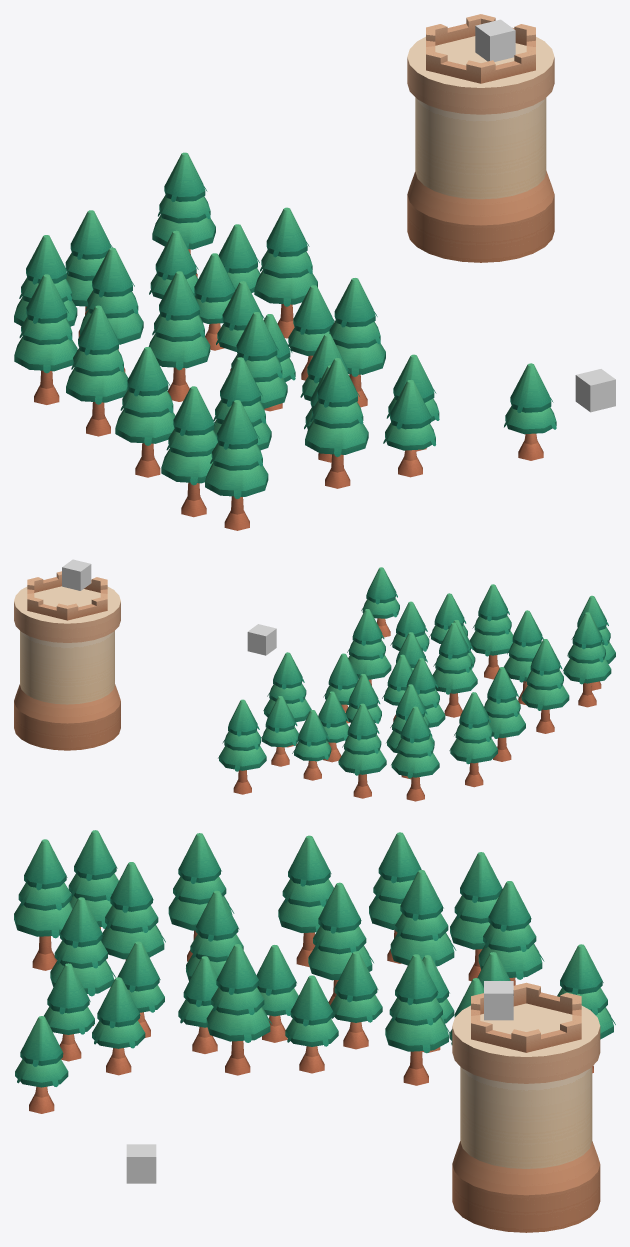
The model's file is land.glb.
3 views of the same model, one above another, from view 1: azimuth 30°, elevation 25°; view 2: azimuth 150°, elevation 25°; view 3: azimuth 270°, elevation 25° (orthographic). The views are drawn at different scales.
Parts seen in each view (by area): view 1: tower-base, tree-large.014, tree-large.013, tree-large.012, tree-large.009, tree-large.010, tree-large.005, tree-large.002, tree-large.015, tree-large.001, tree-large.003, tower-hexagon-top (+17 smaller); view 2: tower-base, tree-large.007, tree-large.015, tree-large.008, tree-large.012, tree-large.001, tree-large.010, tree-large.004, tree-large.013, tree-large.009, tree-large.003, tower-hexagon-top (+17 smaller); view 3: tower-base, tree-large.003, tree-large.002, tree-large.014, tree-large.009, tree-large.006, tower-hexagon-top, tree-large.011, tree-large.008, tree-large.005, tree-large.013, tree-large.010 (+17 smaller).
Boxes of the visible parts, x1,y1,x2,y2 form: tower-base: [407, 36, 554, 262]; tree-large.014: [205, 400, 268, 530]; tree-large.013: [305, 358, 368, 488]; tree-large.012: [14, 274, 77, 404]; tree-large.009: [66, 305, 128, 436]; tree-large.010: [115, 347, 175, 477]; tree-large.005: [148, 271, 210, 401]; tree-large.002: [254, 207, 317, 338]; tree-large.015: [161, 386, 217, 517]; tree-large.001: [152, 152, 215, 277]; tree-large.003: [329, 278, 385, 407]; tower-hexagon-top: [426, 14, 535, 83]; tower-base: [14, 586, 120, 750]; tree-large.007: [391, 706, 439, 801]; tree-large.015: [563, 612, 611, 707]; tree-large.008: [338, 703, 386, 798]; tree-large.012: [449, 692, 497, 787]; tree-large.001: [218, 699, 266, 794]; tree-large.010: [520, 639, 569, 733]; tree-large.004: [432, 622, 477, 717]; tree-large.013: [469, 584, 513, 679]; tree-large.009: [484, 667, 525, 761]; tree-large.003: [347, 609, 391, 685]; tower-hexagon-top: [27, 571, 107, 620]; tower-base: [452, 1003, 600, 1232]; tree-large.003: [206, 944, 272, 1075]; tree-large.002: [385, 954, 450, 1085]; tree-large.014: [14, 839, 72, 970]; tree-large.009: [278, 835, 333, 967]; tree-large.006: [390, 870, 456, 966]; tower-hexagon-top: [471, 982, 581, 1052]; tree-large.011: [101, 862, 165, 960]; tree-large.008: [478, 881, 544, 985]; tree-large.005: [308, 882, 373, 1005]; tree-large.013: [50, 897, 115, 1025]; tree-large.010: [168, 833, 234, 961].
Bounding box in the file's own units: 4.65 × 1.7 × 4.07.
4 materials, 4 textured.
